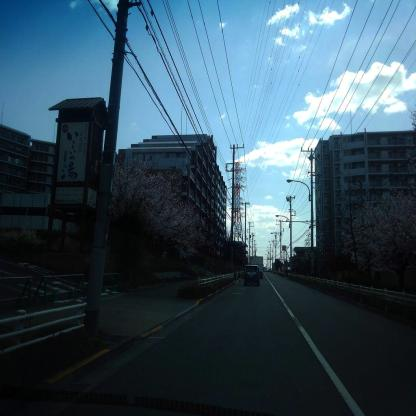Someiyoshino: (100, 145, 209, 266), (334, 172, 416, 279)
